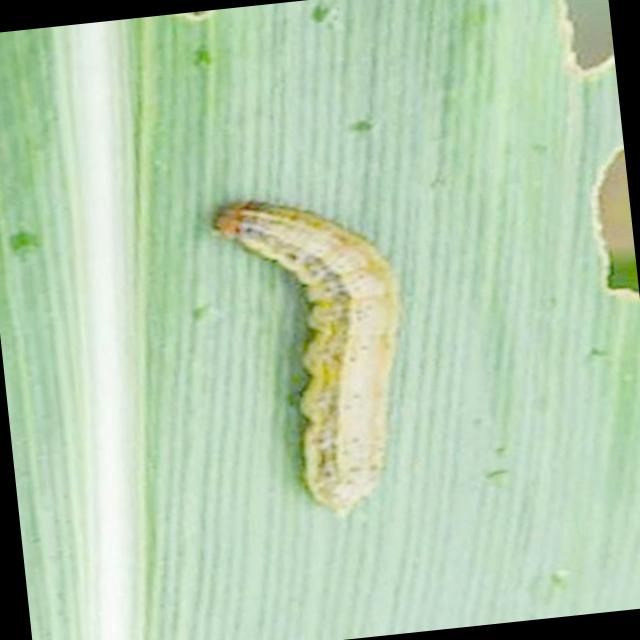pest: (214, 187, 419, 519)
